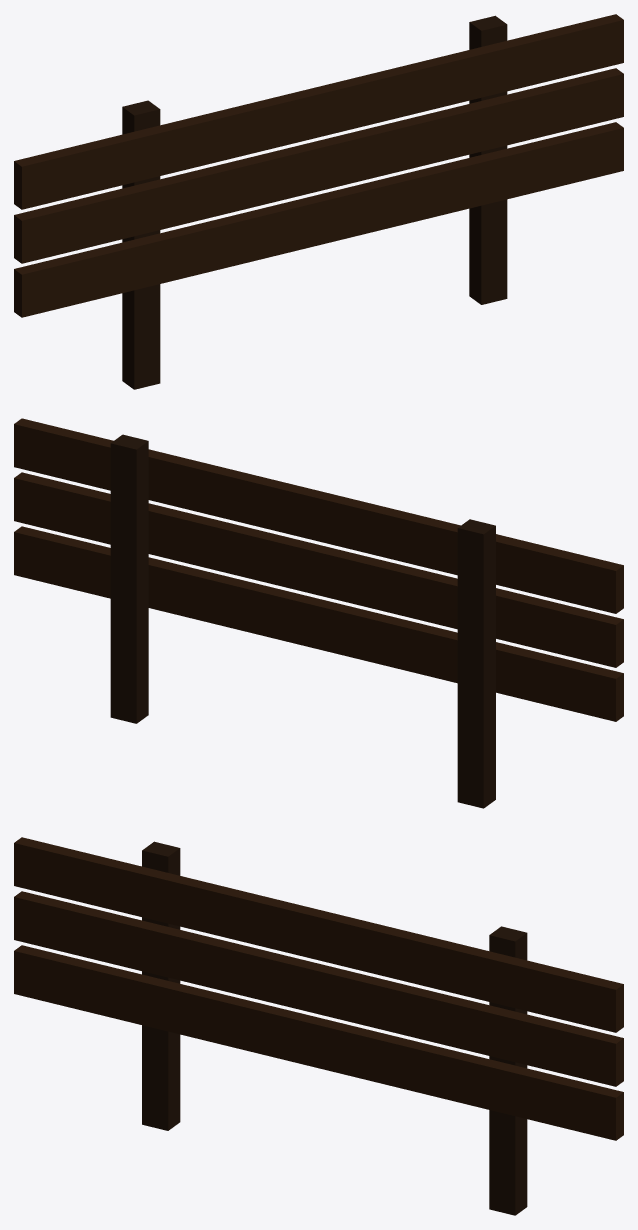
File: Fence04.fbx
The picture shows the model from 3 angles, top to bottom: view 1: azimuth 30°, elevation 25°; view 2: azimuth 150°, elevation 25°; view 3: azimuth 330°, elevation 25°; orthographic projection.
Visible parts, largest first — view 1: Boards (×3), Posts; view 2: Boards (×3), Posts; view 3: Boards (×3), Posts.
Boxes of the visible parts, x1,y1,x2,y2 form: Boards (×3): (14, 14, 623, 317); Posts: (122, 15, 507, 389); Boards (×3): (14, 418, 623, 721); Posts: (110, 434, 495, 808); Boards (×3): (14, 837, 623, 1140); Posts: (142, 841, 527, 1215).
Size of the model in its own units: 30.82 by 13.41 by 1.76.
